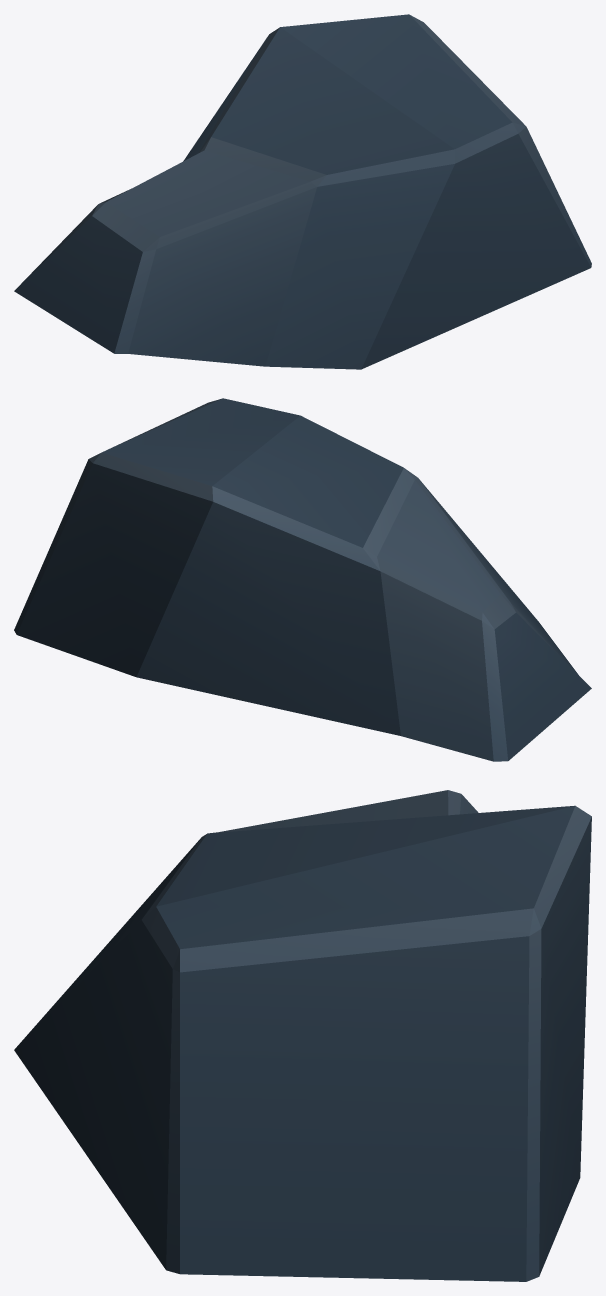
The model's file is Rock_7.fbx.
3 renders of one model, top to bottom at view 1: azimuth 30°, elevation 25°; view 2: azimuth 150°, elevation 25°; view 3: azimuth 270°, elevation 25°, orthographic. The views are drawn at different scales.
Visible parts, largest first — view 1: Rock_7; view 2: Rock_7; view 3: Rock_7.
Part boxes in pixels (x1,y1,x2,y2): Rock_7: (14, 14, 591, 369); Rock_7: (14, 398, 591, 761); Rock_7: (14, 790, 591, 1281).
Bounding box in the file's own units: 72.5 × 28.55 × 47.2.
